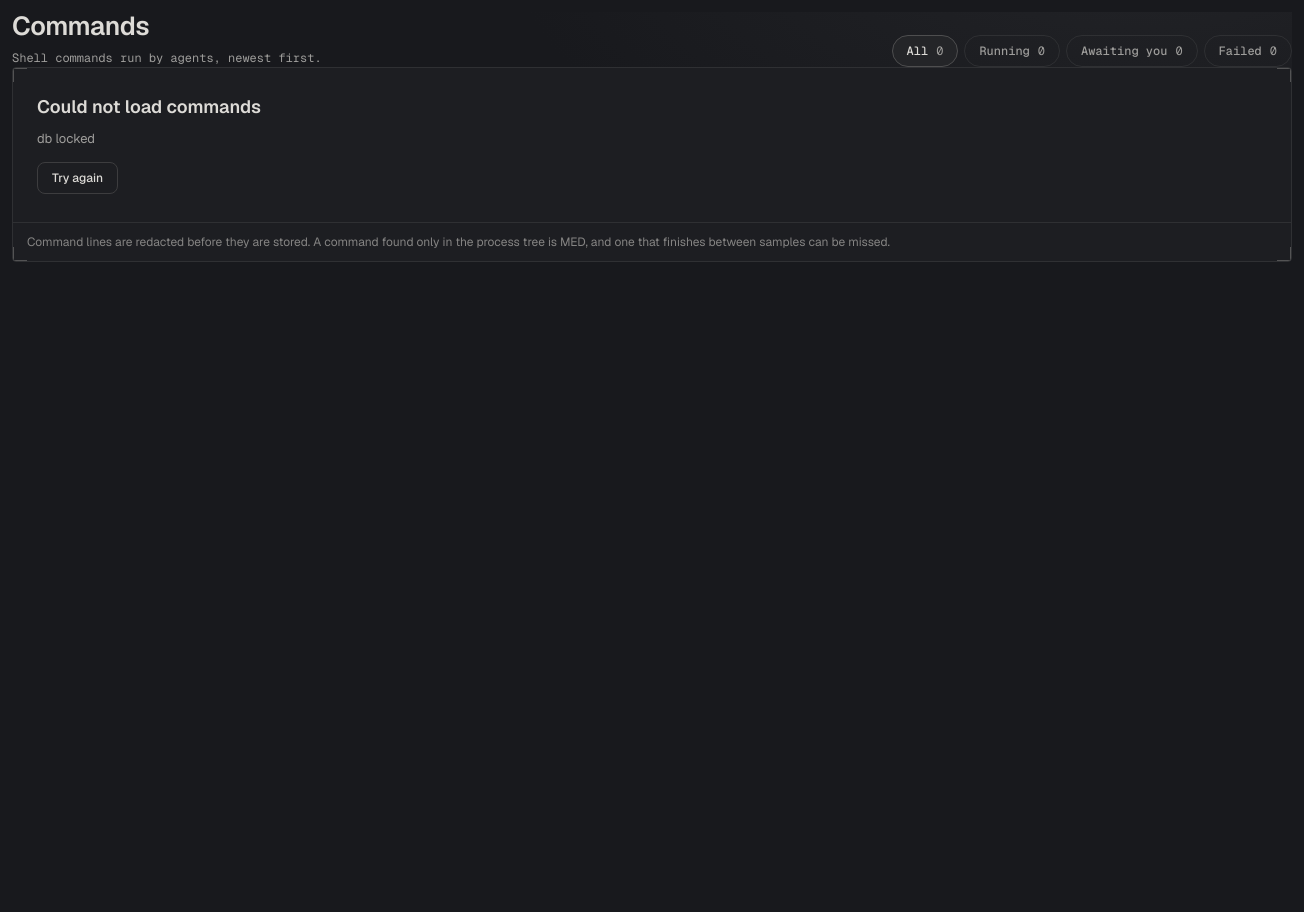
Test: Commands page › shows an error with a way to retry when the query fails
Check: the message shows "db locked", box [37,130,95,147]
Click the button "Try again". click: [78, 178]
box: [37,162,118,194]
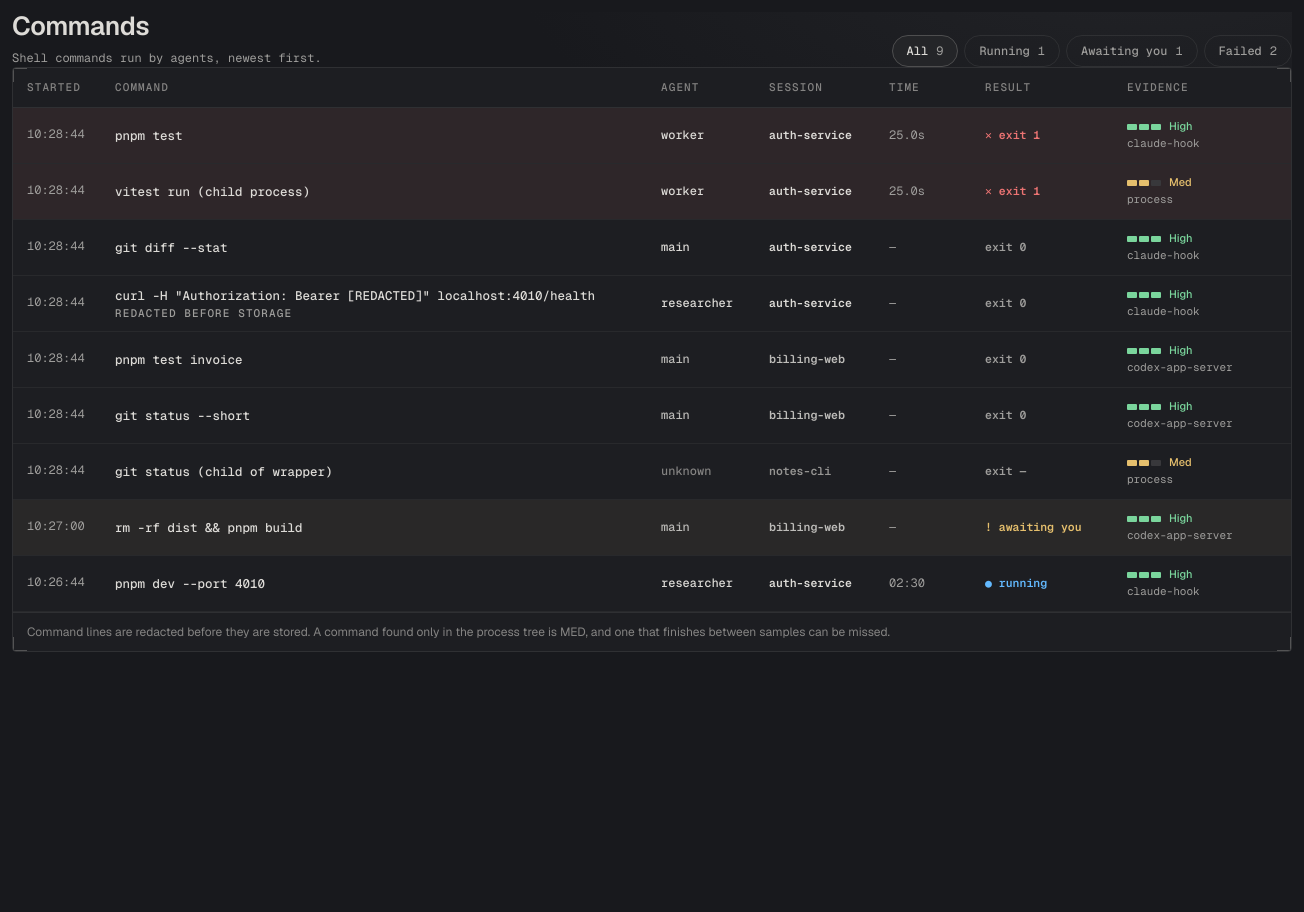
Check: the text "pnpm test" is shown, box [115,127,182,144]
